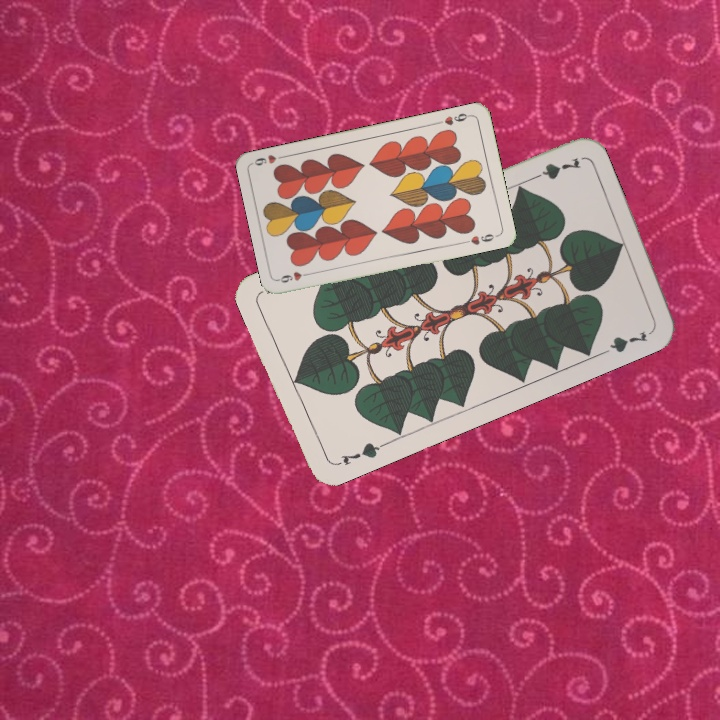G7: (525, 153, 584, 184), (330, 438, 387, 469)
H9: (275, 268, 315, 286), (440, 109, 474, 128)
